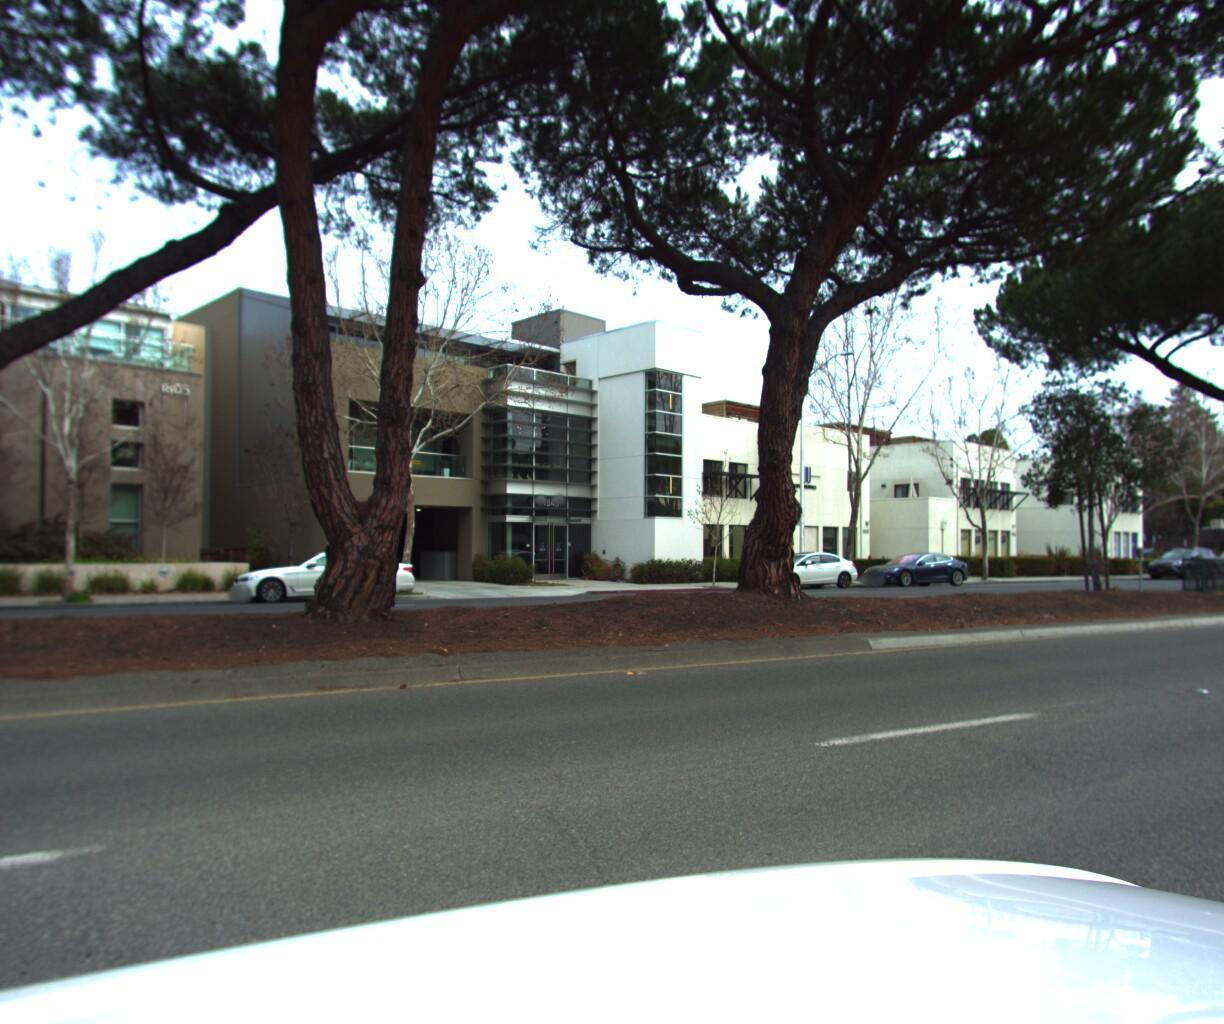car: (226, 545, 423, 607), (740, 548, 868, 593), (855, 547, 976, 588), (1139, 544, 1223, 578), (1200, 540, 1224, 577)
